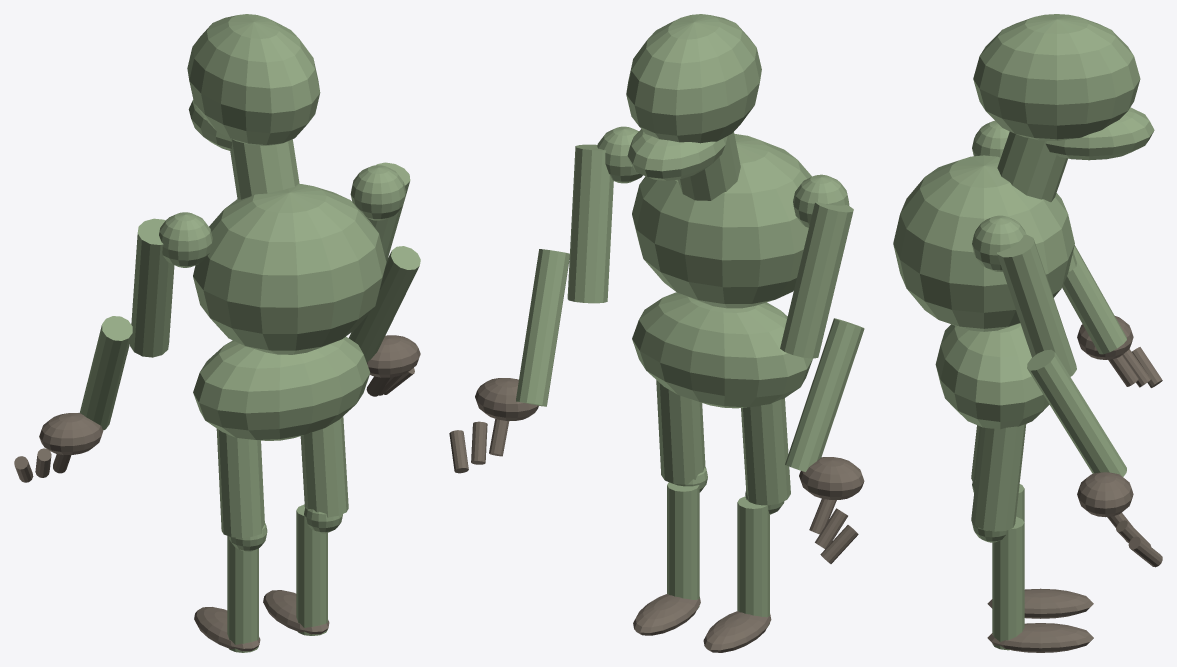
File: ghoul.glb
The picture shows the model from 3 angles, left to right: view 1: azimuth 30°, elevation 25°; view 2: azimuth 150°, elevation 25°; view 3: azimuth 270°, elevation 25°; orthographic projection. The views are drawn at different scales.
Visible parts, largest first — view 1: ghoul; view 2: ghoul; view 3: ghoul.
Boxes of the visible parts, x1,y1,x2,y2 form: ghoul: (14, 14, 420, 652); ghoul: (449, 14, 864, 652); ghoul: (893, 14, 1162, 652).
Size of the model in its own units: 1.16 by 1.67 by 0.6673.
